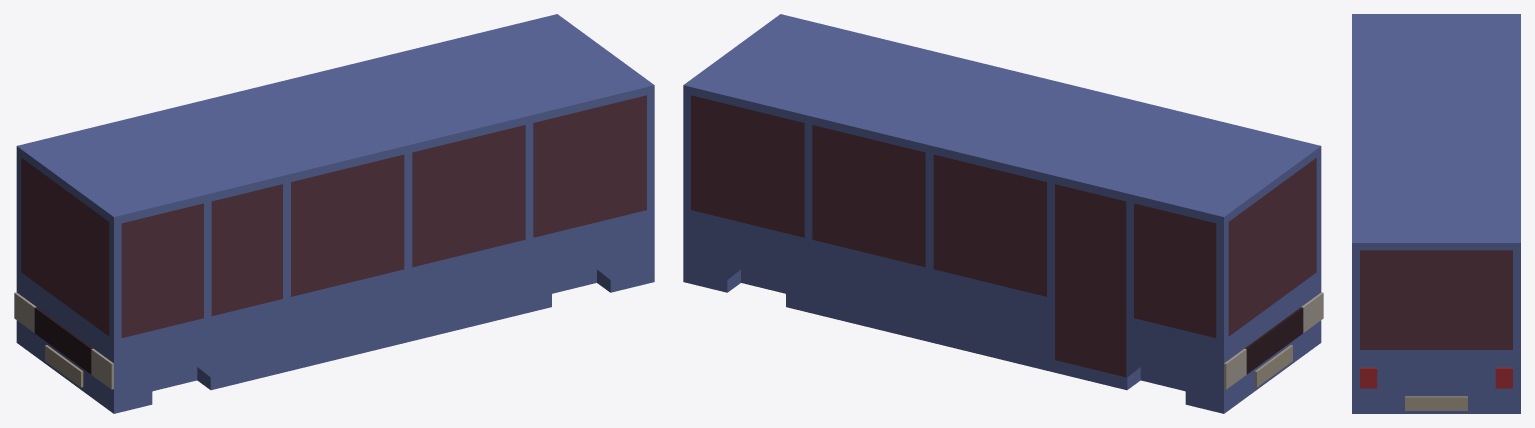
File: Bus_Blue.fbx
3 views of the same model, side by side, from view 1: azimuth 30°, elevation 25°; view 2: azimuth 150°, elevation 25°; view 3: azimuth 270°, elevation 25° (orthographic). The views are drawn at different scales.
Parts seen in each view (by area): view 1: Bus_Blue, Bus_Lights; view 2: Bus_Blue, Bus_Lights; view 3: Bus_Blue, Bus_Lights.
Part boxes in pixels (x1,y1,x2,y2): Bus_Blue: [16, 14, 654, 413]; Bus_Lights: [14, 292, 113, 389]; Bus_Blue: [683, 14, 1321, 413]; Bus_Lights: [1224, 292, 1323, 389]; Bus_Blue: [1352, 14, 1520, 413]; Bus_Lights: [1360, 367, 1512, 388].
Size of the model in its own units: 6.96 by 2.4 by 2.15.
